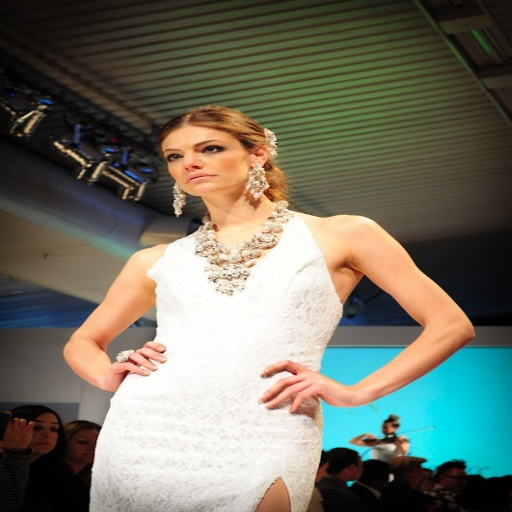hand: (249, 364, 359, 418), (103, 339, 164, 393), (0, 410, 32, 449), (365, 432, 375, 440)
